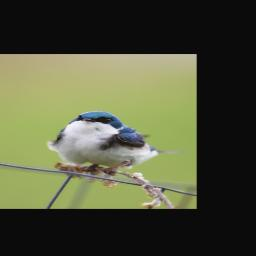Swallow: (46, 111, 190, 176)
